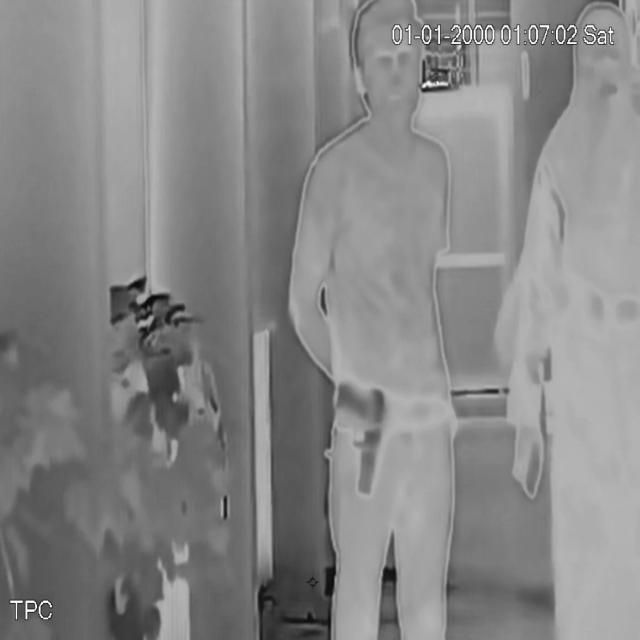Weapon: (333, 376, 398, 512)
